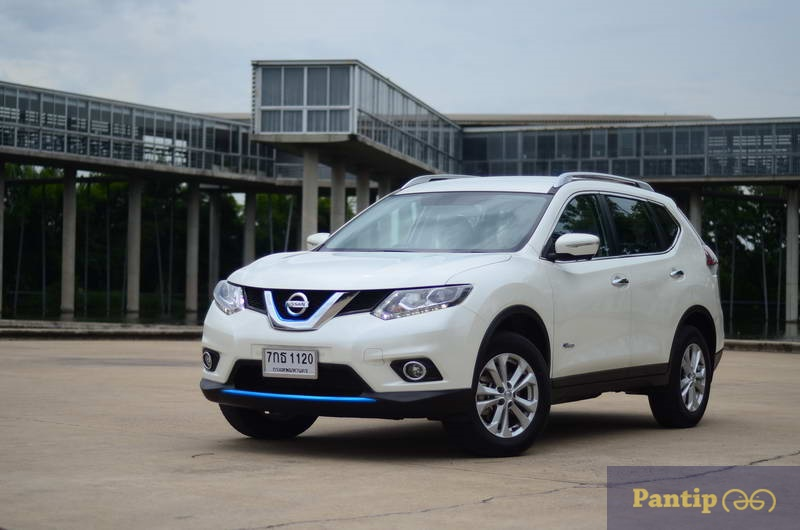pickup: (199, 167, 725, 457)
